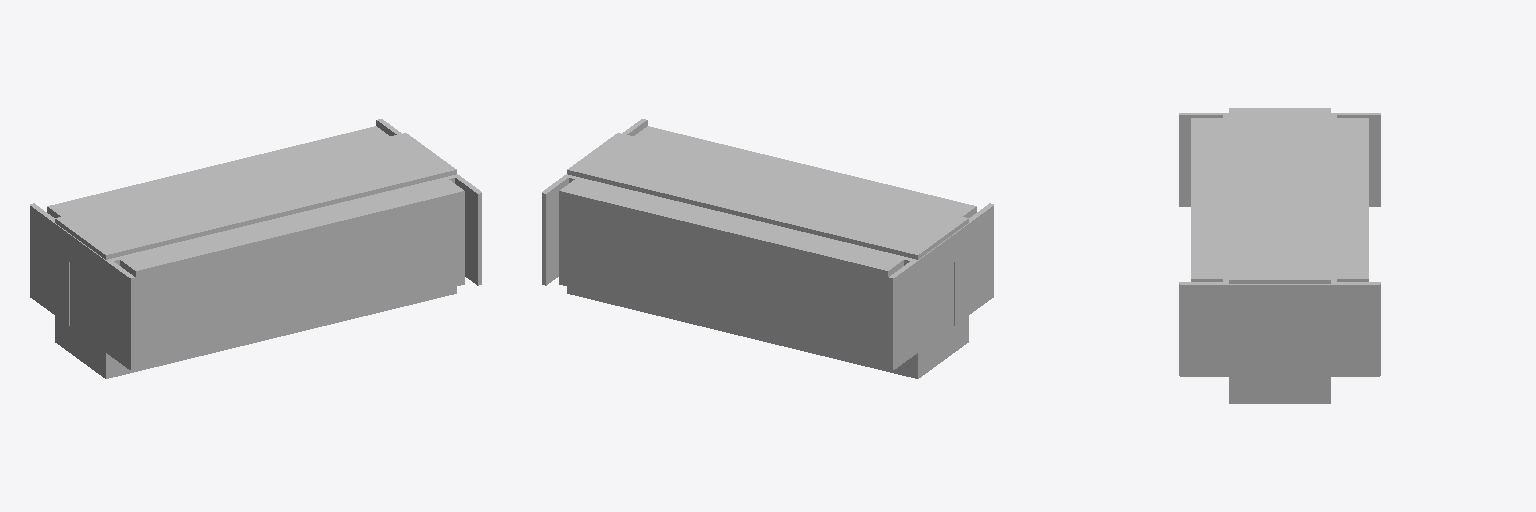
The model's file is 1x1_hotel_hallway_x.obj.
3 views of the same model, side by side, from view 1: azimuth 30°, elevation 25°; view 2: azimuth 150°, elevation 25°; view 3: azimuth 270°, elevation 25° (orthographic).
Visible parts, largest first — view 1: UCX_1x1_hotel_room_straight_z_00.001, UCX_1x1_hotel_hallway_x_09, UCX_1x1_hotel_hallway_x_00, UCX_1x1_hotel_hallway_x_01, UCX_1x1_hotel_hallway_x_02, 2x1_hotel_hallway, UCX_1x1_hotel_hallway_x_06, UCX_1x1_hotel_hallway_x_03, UCX_1x1_hotel_hallway_x_08; view 2: UCX_1x1_hotel_room_straight_z_00.001, UCX_1x1_hotel_hallway_x_09, UCX_1x1_hotel_hallway_x_00, UCX_1x1_hotel_hallway_x_02, UCX_1x1_hotel_hallway_x_01, 2x1_hotel_hallway, UCX_1x1_hotel_hallway_x_03; view 3: UCX_1x1_hotel_hallway_x_09, UCX_1x1_hotel_room_straight_z_00.001, UCX_1x1_hotel_hallway_x_06, UCX_1x1_hotel_hallway_x_04, 2x1_hotel_hallway, UCX_1x1_hotel_hallway_x_00, UCX_1x1_hotel_hallway_x_01, UCX_1x1_hotel_hallway_x_05, UCX_1x1_hotel_hallway_x_07, UCX_1x1_hotel_hallway_x_02.
Boxes of the visible parts, <box> form: UCX_1x1_hotel_room_straight_z_00.001: <box>47,126,464,364</box>; UCX_1x1_hotel_hallway_x_09: <box>55,133,456,259</box>; UCX_1x1_hotel_hallway_x_00: <box>55,287,456,378</box>; UCX_1x1_hotel_hallway_x_01: <box>90,249,132,369</box>; UCX_1x1_hotel_hallway_x_02: <box>30,204,69,325</box>; 2x1_hotel_hallway: <box>30,119,481,369</box>; UCX_1x1_hotel_hallway_x_06: <box>453,174,480,284</box>; UCX_1x1_hotel_hallway_x_03: <box>69,234,89,275</box>; UCX_1x1_hotel_hallway_x_08: <box>108,175,454,265</box>; UCX_1x1_hotel_room_straight_z_00.001: <box>559,126,976,364</box>; UCX_1x1_hotel_hallway_x_09: <box>567,133,968,258</box>; UCX_1x1_hotel_hallway_x_00: <box>567,287,968,378</box>; UCX_1x1_hotel_hallway_x_02: <box>890,249,933,369</box>; UCX_1x1_hotel_hallway_x_01: <box>954,204,993,325</box>; 2x1_hotel_hallway: <box>542,119,993,369</box>; UCX_1x1_hotel_hallway_x_03: <box>934,234,954,275</box>; UCX_1x1_hotel_hallway_x_09: <box>1229,108,1330,283</box>; UCX_1x1_hotel_room_straight_z_00.001: <box>1191,118,1368,281</box>; UCX_1x1_hotel_hallway_x_06: <box>1180,282,1259,376</box>; UCX_1x1_hotel_hallway_x_04: <box>1300,282,1379,376</box>; 2x1_hotel_hallway: <box>1179,113,1380,377</box>; UCX_1x1_hotel_hallway_x_00: <box>1229,376,1330,403</box>; UCX_1x1_hotel_hallway_x_01: <box>1180,113,1228,206</box>; UCX_1x1_hotel_hallway_x_05: <box>1260,284,1299,311</box>; UCX_1x1_hotel_hallway_x_07: <box>1331,113,1336,281</box>; UCX_1x1_hotel_hallway_x_02: <box>1331,113,1379,206</box>.
Size of the model in its own units: 40.2 by 13.5 by 20.